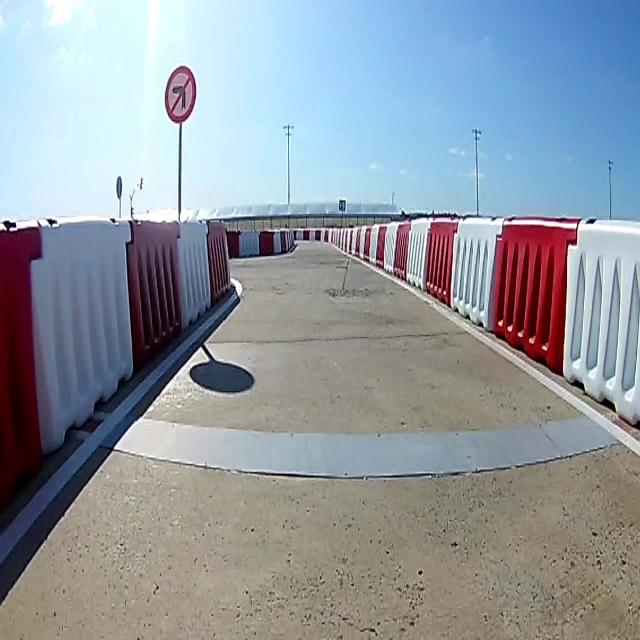soladonulmez: (165, 64, 196, 124)
